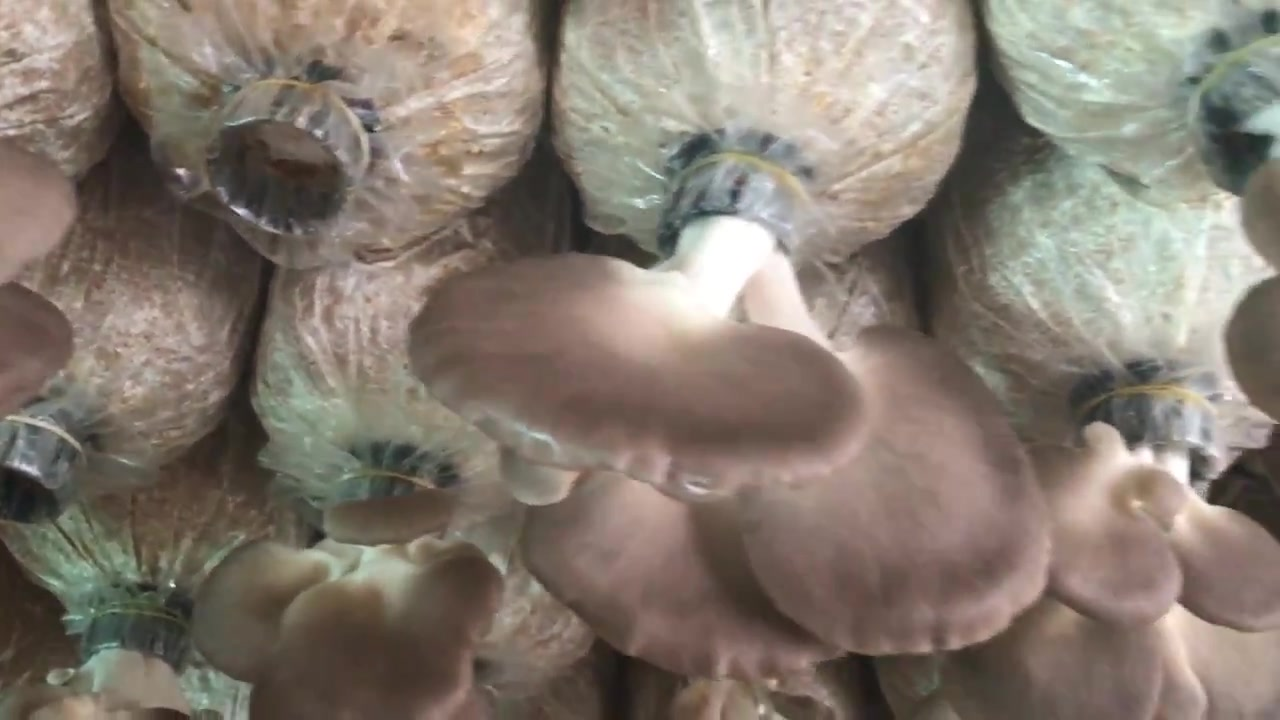nam: (409, 153, 1049, 670), (939, 387, 1276, 719), (195, 470, 498, 719), (1204, 42, 1280, 413), (1, 137, 77, 415)
